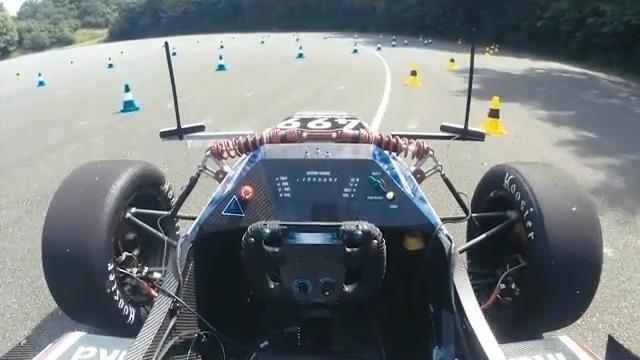blue_cone: (115, 79, 142, 115), (212, 53, 229, 74), (33, 71, 49, 89), (103, 54, 118, 71), (294, 45, 305, 60), (171, 46, 181, 60), (351, 41, 361, 53), (374, 40, 383, 52), (217, 40, 226, 51), (391, 40, 398, 49)
yellow_cone: (477, 92, 510, 136), (403, 62, 422, 89), (445, 55, 459, 73), (483, 46, 493, 60), (15, 69, 25, 83), (494, 42, 503, 56), (488, 44, 497, 56), (68, 58, 78, 68)
